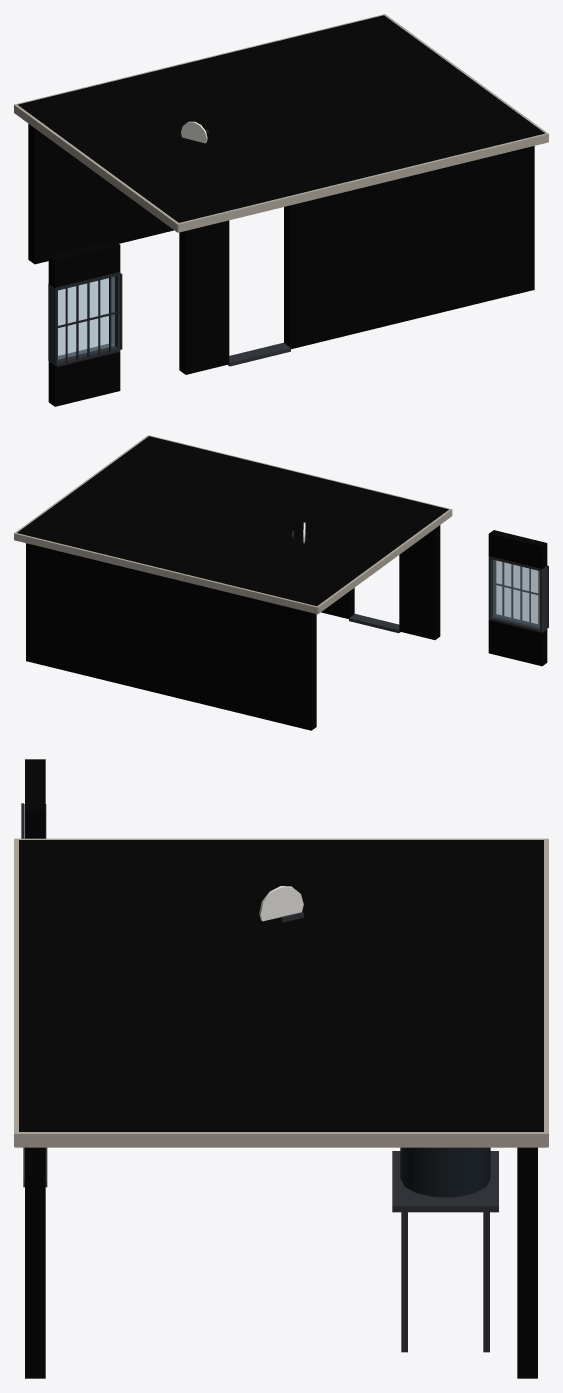
The model's file is _smoke_test.glb.
The picture shows the model from 3 angles, top to bottom: view 1: azimuth 30°, elevation 25°; view 2: azimuth 150°, elevation 25°; view 3: azimuth 270°, elevation 25°; orthographic projection. The views are drawn at different scales.
Parts seen in each view (by area): view 1: object 23, object 4, back, object 3, object 25, object 5, object 1, object 2, object 26, object 20, object 9, object 24 (+2 smaller); view 2: object 23, back, object 3, object 5, object 24, object 1, object 2, object 26, object 4, object 9, object 8, object 20 (+2 smaller); view 3: object 23, object 27, object 4, back, tank_body, object 32, object 2, object 24, object 25, object 35, object 26, object 29 (+1 smaller).
Boxes of the visible parts, x1=… form: object 23: x1=18, y1=15, x2=544, y2=222; object 4: x1=284, y1=146, x2=534, y2=349; back: x1=28, y1=124, x2=173, y2=264; object 3: x1=179, y1=220, x2=229, y2=374; object 25: x1=178, y1=134, x2=548, y2=232; object 5: x1=58, y1=277, x2=114, y2=359; object 1: x1=48, y1=352, x2=120, y2=406; object 2: x1=48, y1=240, x2=120, y2=288; object 26: x1=14, y1=104, x2=180, y2=232; object 20: x1=228, y1=342, x2=290, y2=366; object 9: x1=111, y1=273, x2=120, y2=349; object 24: x1=14, y1=14, x2=384, y2=104; object 23: x1=17, y1=436, x2=448, y2=605; back: x1=26, y1=543, x2=316, y2=730; object 3: x1=399, y1=525, x2=440, y2=639; object 5: x1=493, y1=560, x2=539, y2=627; object 24: x1=14, y1=533, x2=317, y2=614; object 1: x1=488, y1=620, x2=547, y2=666; object 2: x1=488, y1=530, x2=547, y2=568; object 26: x1=315, y1=509, x2=452, y2=613; object 4: x1=321, y1=588, x2=354, y2=618; object 9: x1=488, y1=556, x2=496, y2=620; object 8: x1=540, y1=568, x2=547, y2=632; object 20: x1=349, y1=614, x2=400, y2=633; object 23: x1=19, y1=840, x2=543, y2=1131; object 27: x1=14, y1=1131, x2=548, y2=1147; object 4: x1=25, y1=1147, x2=45, y2=1378; back: x1=517, y1=1147, x2=537, y2=1378; tank_body: x1=400, y1=1147, x2=490, y2=1197; object 32: x1=392, y1=1151, x2=498, y2=1212; object 2: x1=25, y1=759, x2=45, y2=838; object 24: x1=544, y1=839, x2=548, y2=1146; object 25: x1=14, y1=839, x2=18, y2=1146; object 35: x1=259, y1=886, x2=303, y2=921; object 26: x1=14, y1=838, x2=548, y2=841; object 29: x1=483, y1=1212, x2=489, y2=1352.
Size of what is drawn, in the model's own units: 11.28 by 3.86 by 6.52.
